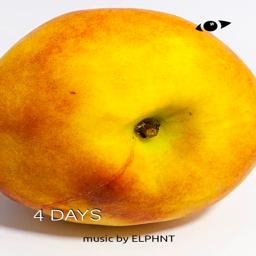Peach Fresh: (1, 6, 256, 230)
